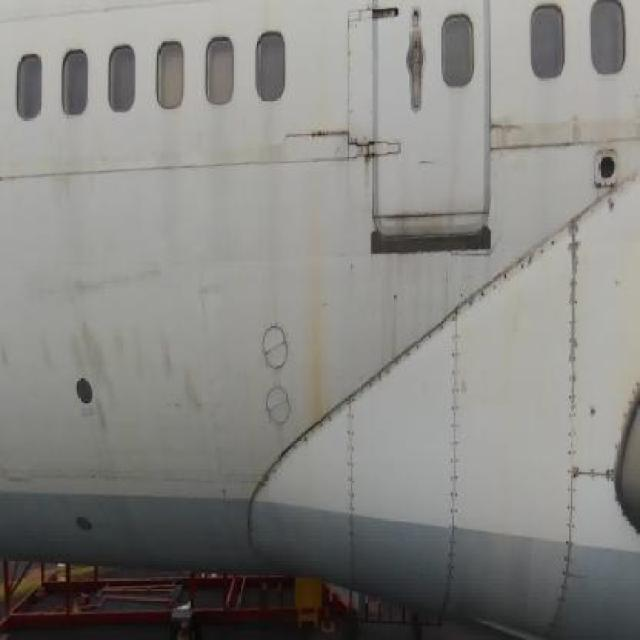Missing-Rivet: (561, 207, 582, 631), (468, 240, 560, 326), (360, 321, 445, 401), (445, 303, 464, 608), (282, 405, 341, 467), (342, 392, 362, 574), (589, 447, 616, 508)
Rust: (292, 193, 342, 435)
Scartch: (1, 312, 214, 458), (51, 255, 169, 312), (492, 102, 586, 168), (192, 264, 220, 310)
